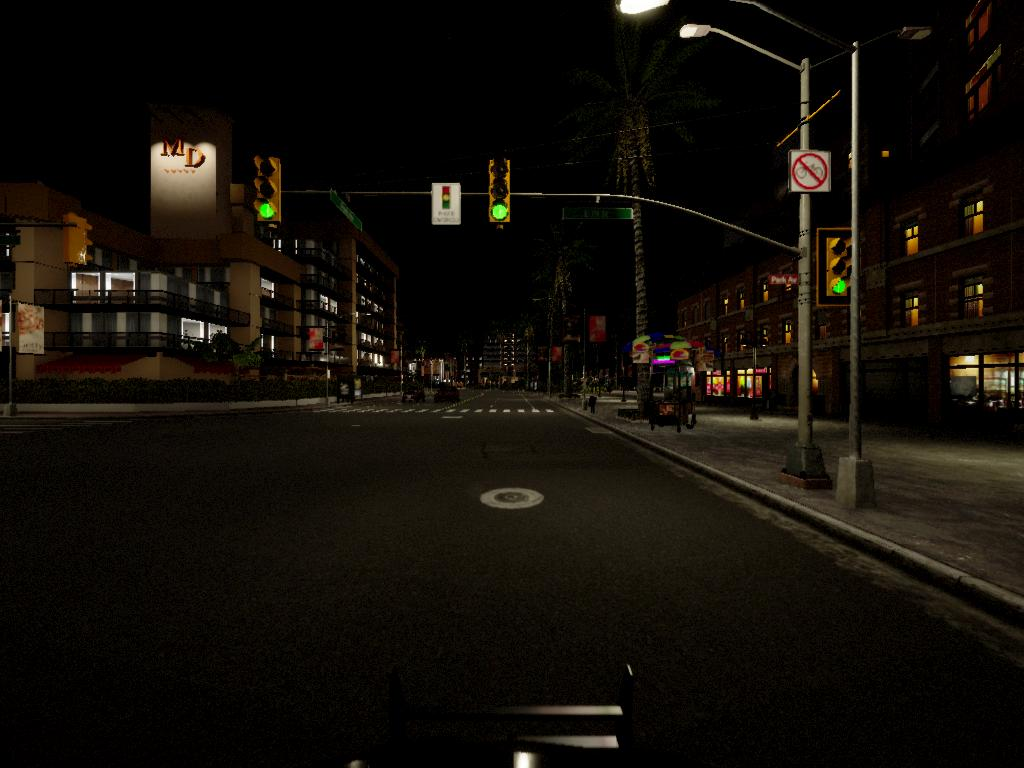traffic_light: (253, 158, 284, 228), (823, 236, 854, 303), (487, 158, 514, 225)
